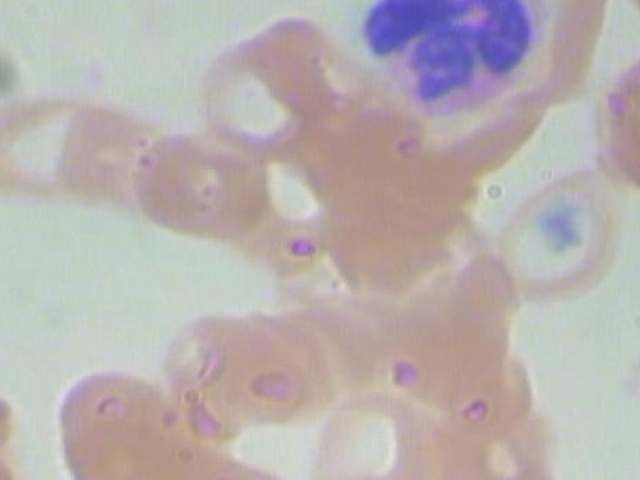RBC: (157, 292, 335, 431), (123, 112, 277, 252), (192, 21, 338, 162), (498, 164, 631, 302), (47, 361, 198, 480), (0, 74, 111, 214), (298, 377, 437, 480), (427, 382, 565, 480), (587, 53, 640, 192), (0, 449, 69, 480)
WBC: (360, 0, 546, 124)
